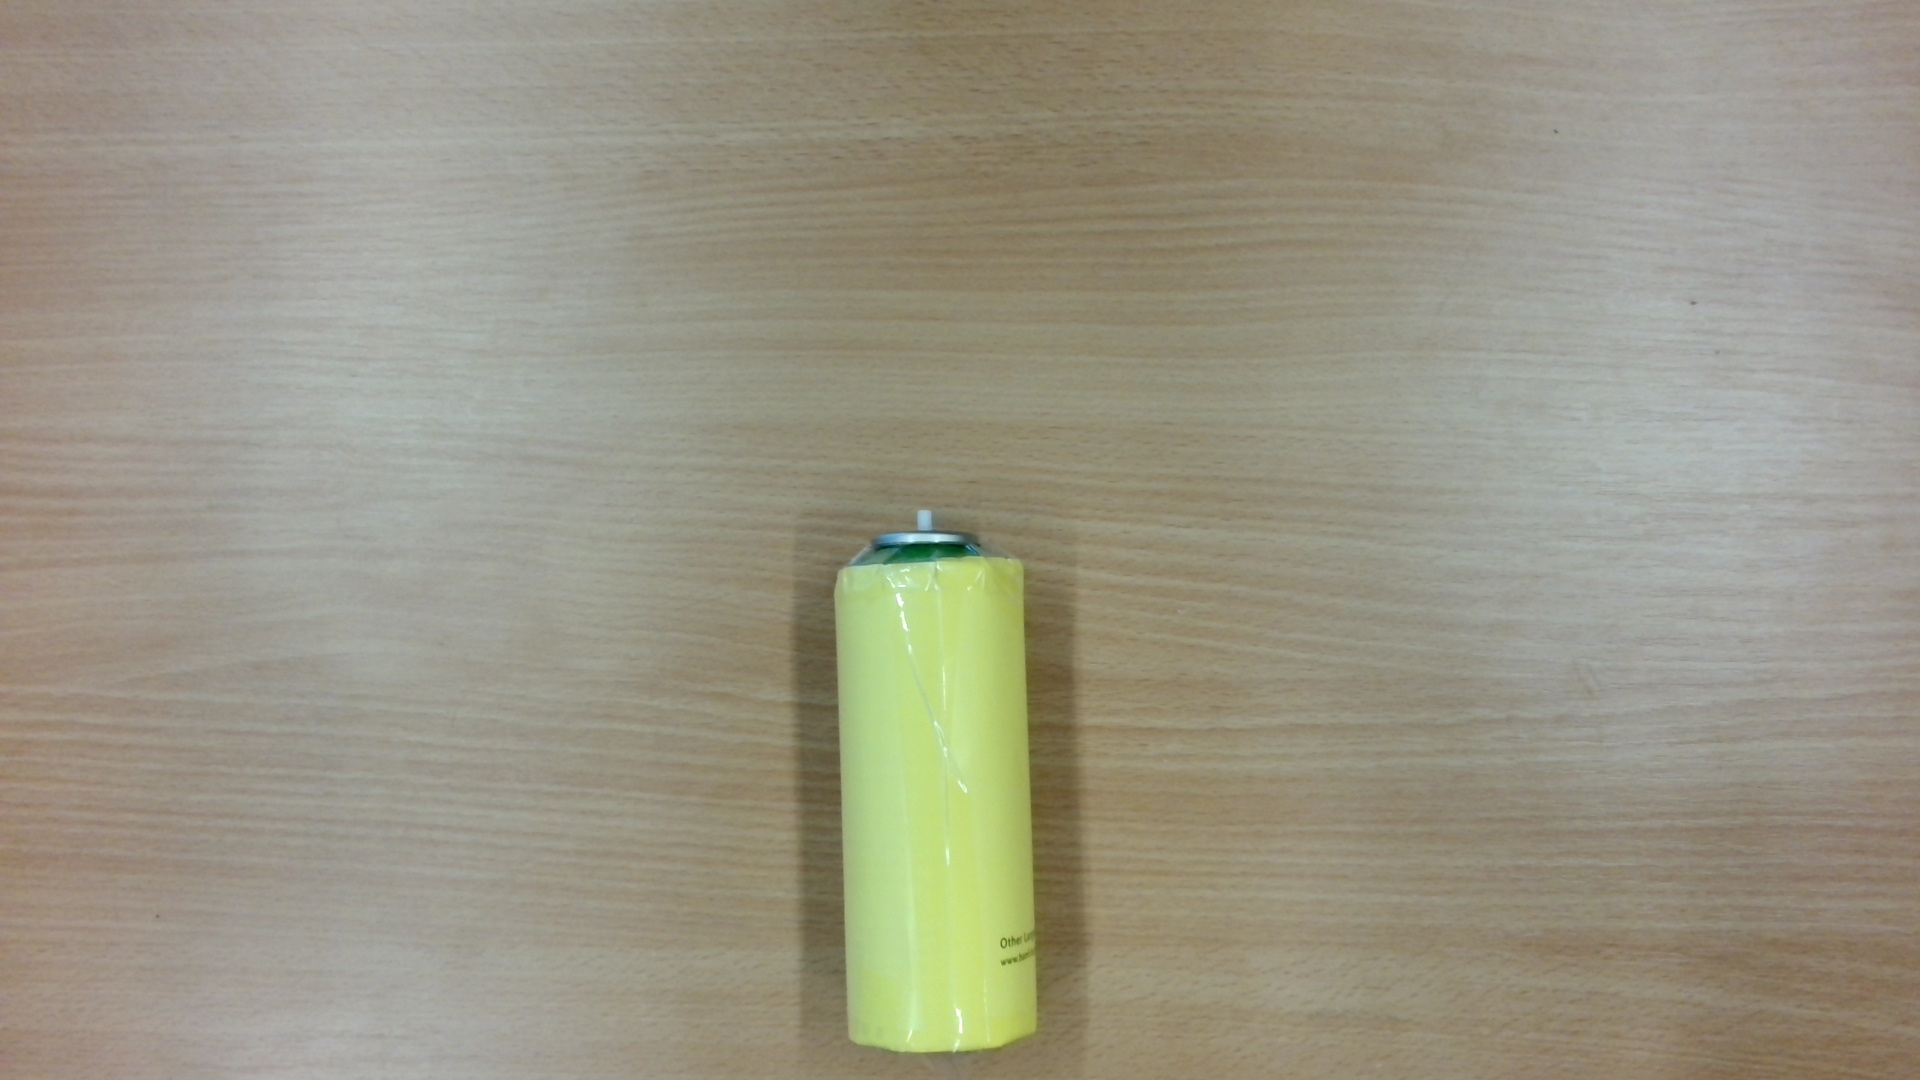Cylinder: (822, 501, 1059, 1062)
